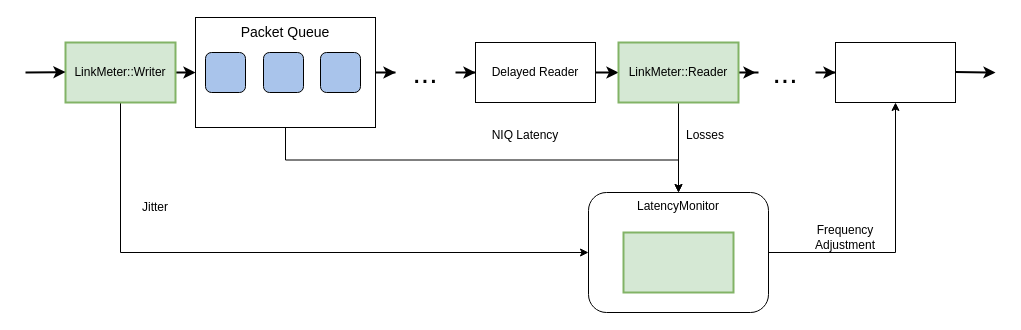
This 1021x330 diagram has some shape labels left out. Here are the shapes that lost their labels. From the top down, the centre of each, then its label:
At (895,72): "Resampler".
At (678,262): "LatencyTuner".
